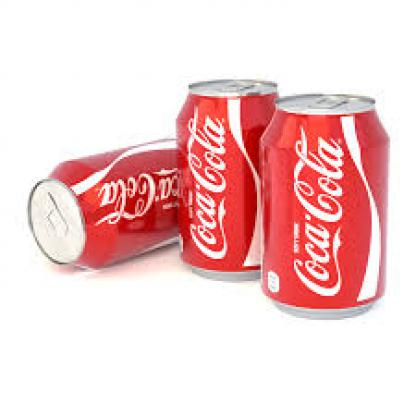Compsot: (259, 92, 386, 318), (24, 137, 179, 272), (174, 78, 275, 277)
